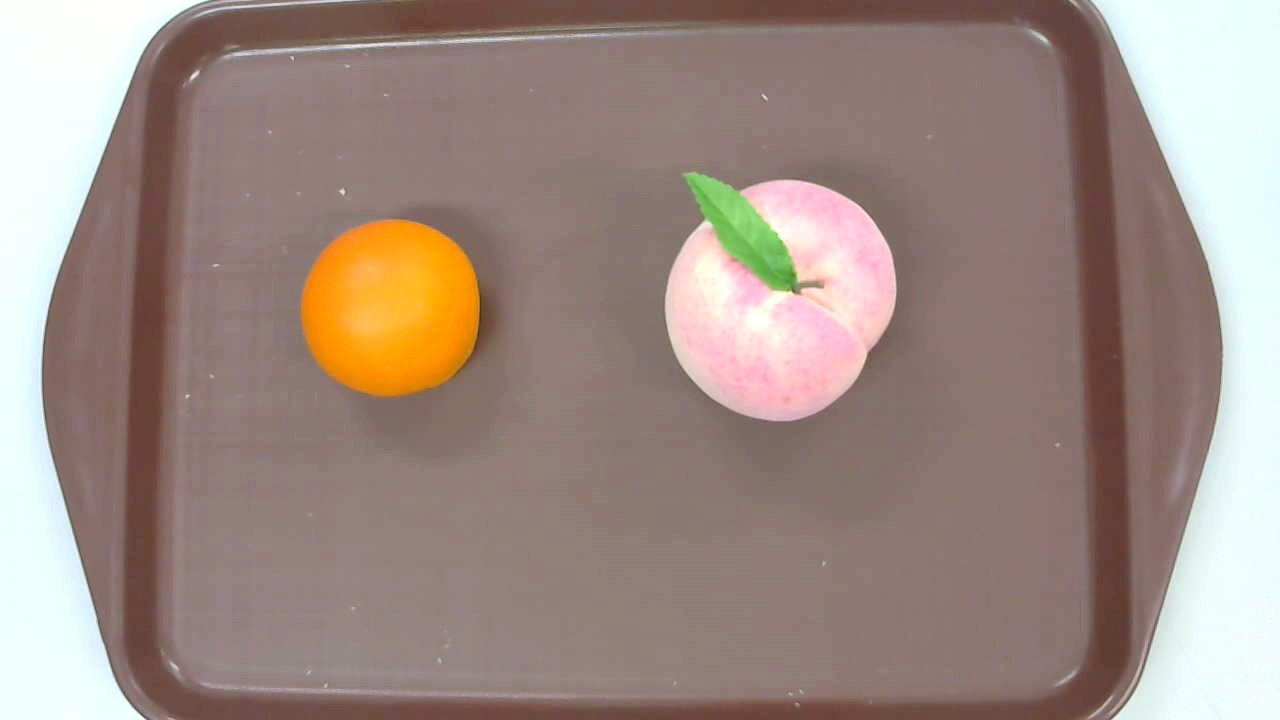bun: (299, 219, 478, 398)
peach: (664, 172, 896, 422)
